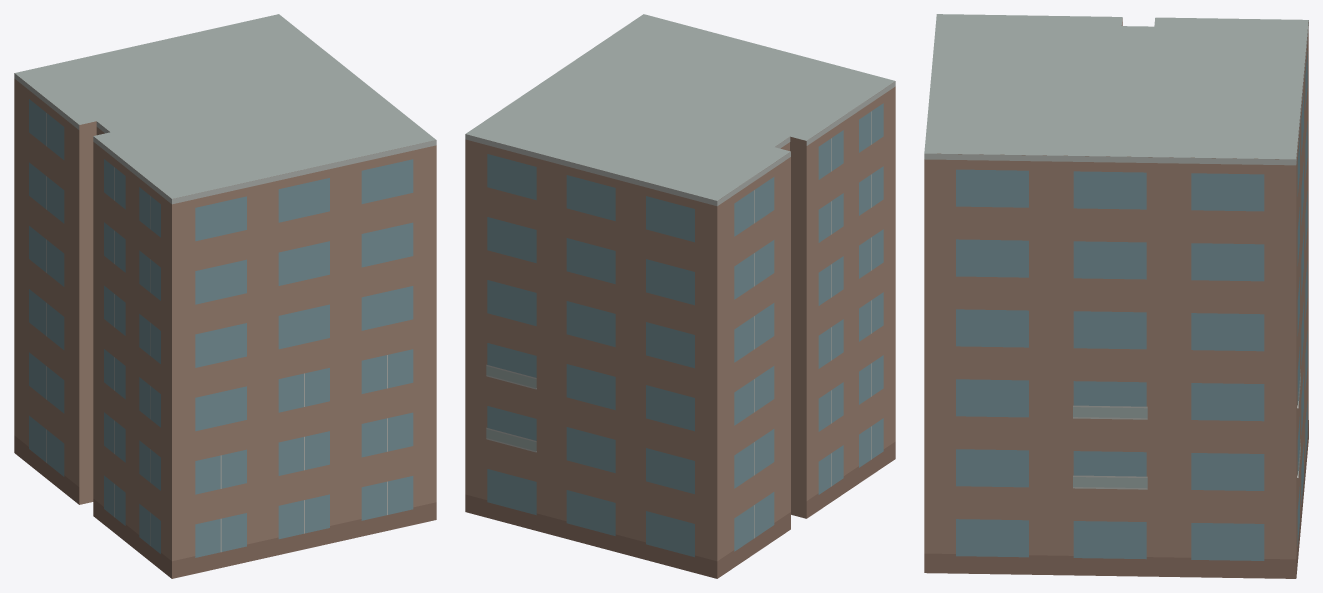
File: survey-upis-32654198.glb
3 views of the same model, side by side, from view 1: azimuth 30°, elevation 25°; view 2: azimuth 150°, elevation 25°; view 3: azimuth 270°, elevation 25° (orthographic). The views are drawn at different scales.
Parts seen in each view (by area): view 1: survey-upis-32654198.tmp; view 2: survey-upis-32654198.tmp; view 3: survey-upis-32654198.tmp.
Part boxes in pixels (left/top/right/bottom): survey-upis-32654198.tmp: left=14, top=14, right=436, bottom=578; survey-upis-32654198.tmp: left=465, top=14, right=895, bottom=578; survey-upis-32654198.tmp: left=924, top=14, right=1308, bottom=578.
Bounding box in the file's own units: 12.79 × 17.2 × 14.3.
